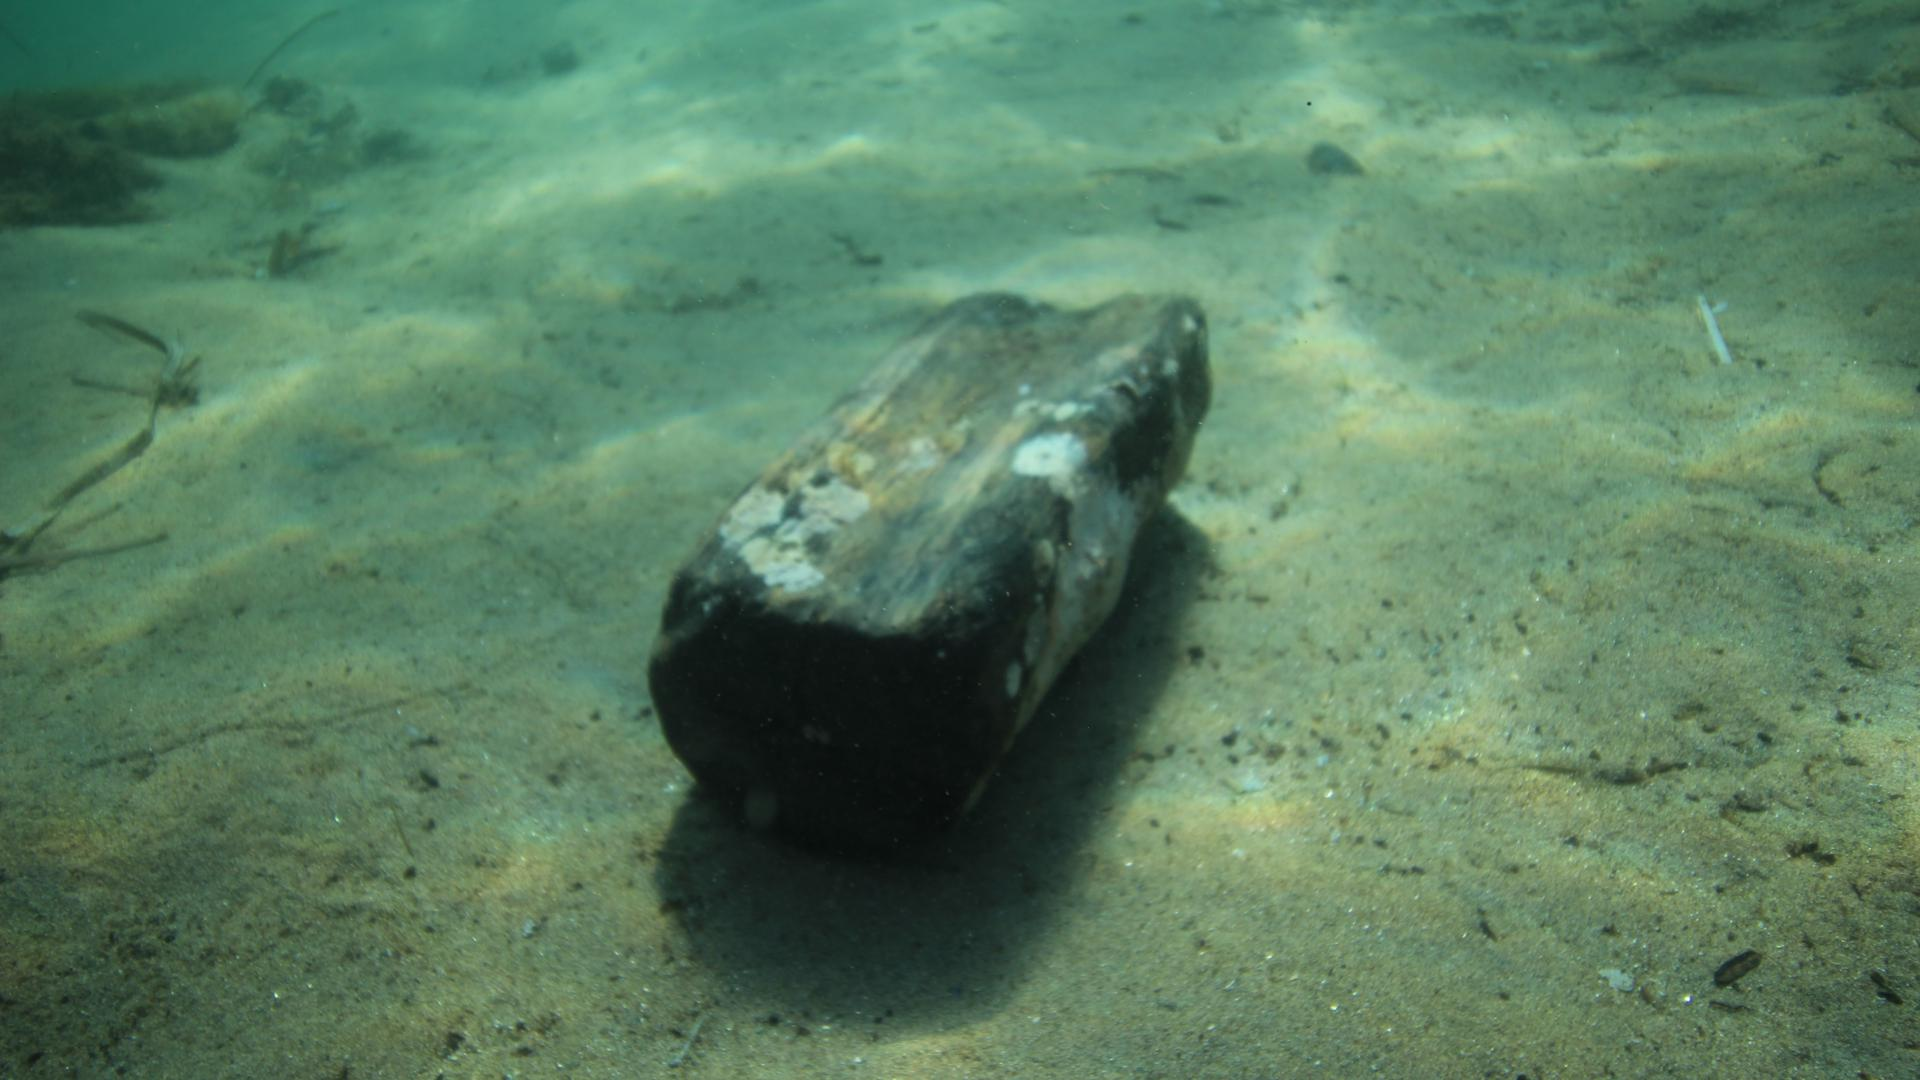wood: (647, 287, 1215, 839)
